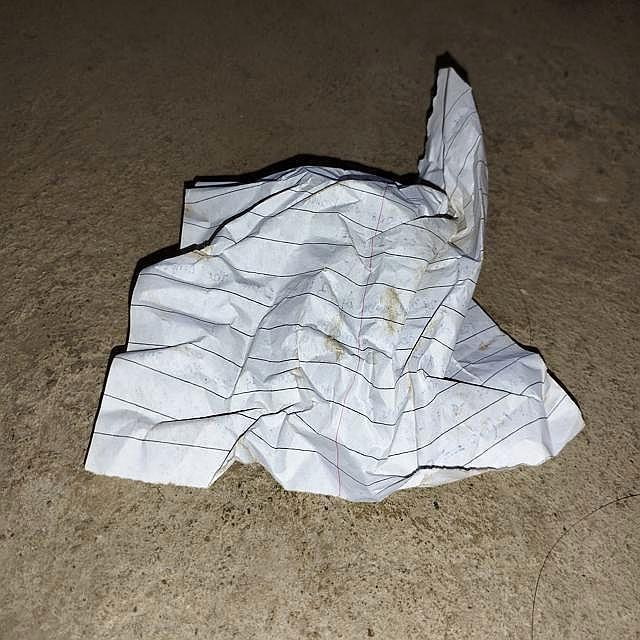Biodegradable: (86, 71, 587, 496)
